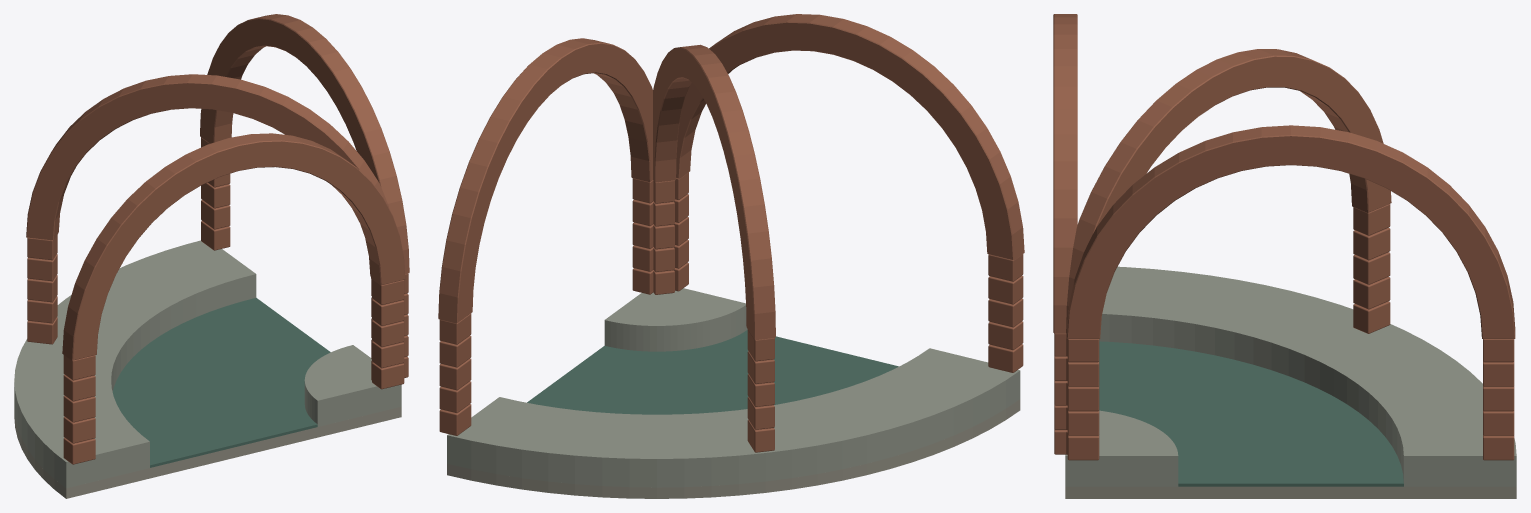
The model's file is undercity-sewers-and-thieves-den-brick-barrel-curve-140cfacc__25036.glb.
3 views of the same model, side by side, from view 1: azimuth 30°, elevation 25°; view 2: azimuth 150°, elevation 25°; view 3: azimuth 270°, elevation 25° (orthographic). The views are drawn at different scales.
Parts seen in each view (by area): view 1: brick-barrel-curve; view 2: brick-barrel-curve; view 3: brick-barrel-curve.
Boxes of the visible parts, box(x1,y1,x2,y2) form: brick-barrel-curve: box(14, 14, 409, 498); brick-barrel-curve: box(438, 14, 1024, 498); brick-barrel-curve: box(1053, 14, 1516, 498).
Bounding box in the file's own units: 4.11 × 3.61 × 4.11.
